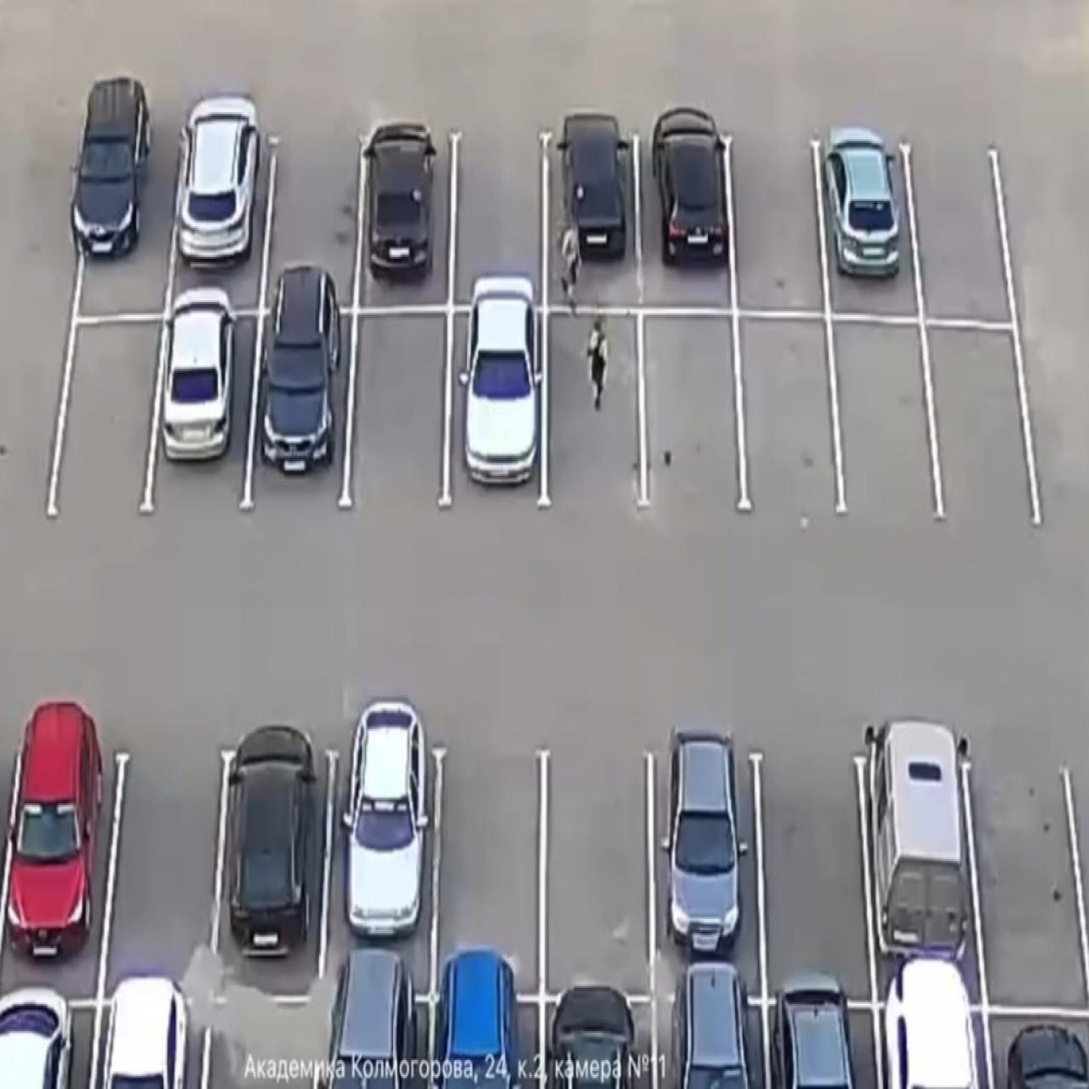cars: (214, 750, 329, 985), (0, 743, 111, 979), (332, 750, 443, 964), (657, 763, 760, 988), (257, 306, 359, 513), (870, 763, 957, 988), (159, 309, 253, 499), (82, 99, 170, 301), (543, 134, 639, 297), (456, 313, 543, 488), (370, 137, 458, 310), (829, 156, 917, 315), (641, 137, 728, 296), (186, 141, 274, 286)
empty: (107, 769, 225, 984), (47, 325, 162, 523), (972, 780, 1073, 1000), (765, 761, 864, 982), (444, 758, 549, 966), (551, 758, 652, 973), (360, 306, 448, 513), (831, 328, 922, 523), (933, 331, 1020, 532), (639, 316, 733, 502), (745, 320, 830, 517), (541, 318, 636, 486), (451, 126, 542, 294), (272, 128, 363, 291), (916, 145, 994, 320), (733, 149, 814, 294)
